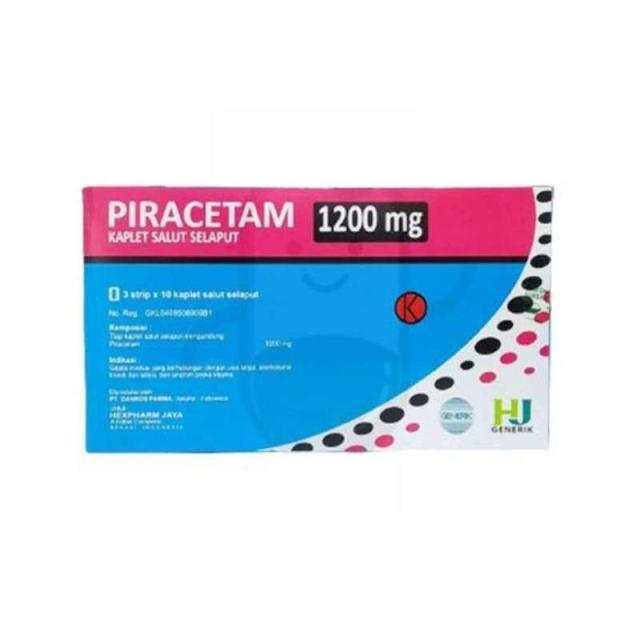drug-name: (108, 195, 300, 231)
